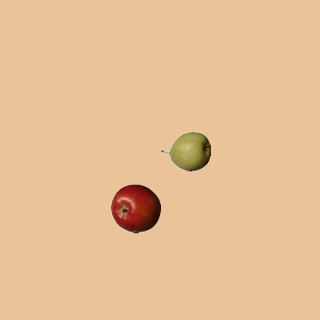Apple Braeburn: (110, 183, 160, 233)
Pear: (160, 126, 210, 176)
